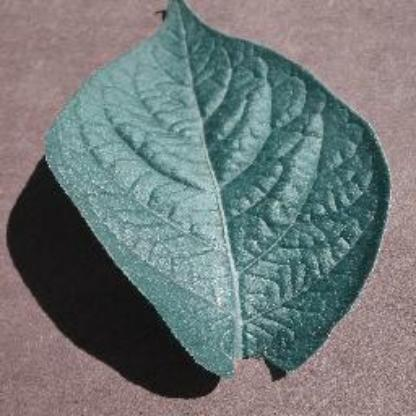Healthy-plant: (38, 0, 391, 382)
